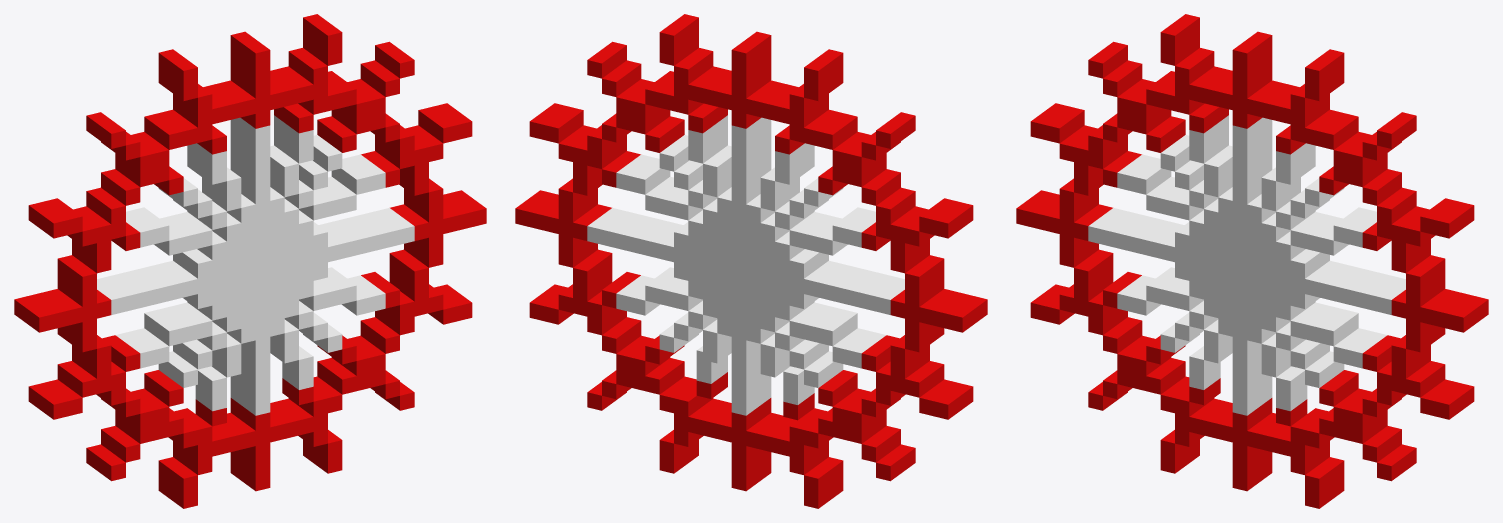
File: amuran-0.glb
The picture shows the model from 3 angles, left to right: view 1: azimuth 30°, elevation 25°; view 2: azimuth 150°, elevation 25°; view 3: azimuth 330°, elevation 25°; orthographic projection.
Parts seen in each view (by area): view 1: Untitled; view 2: Untitled; view 3: Untitled.
Part boxes in pixels (x1,y1,x2,y2): Untitled: (14,14,486,508); Untitled: (515,14,987,508); Untitled: (1016,14,1488,508).
Size of the model in its own units: 0.62 by 0.58 by 0.06.
1 material, 1 textured.
